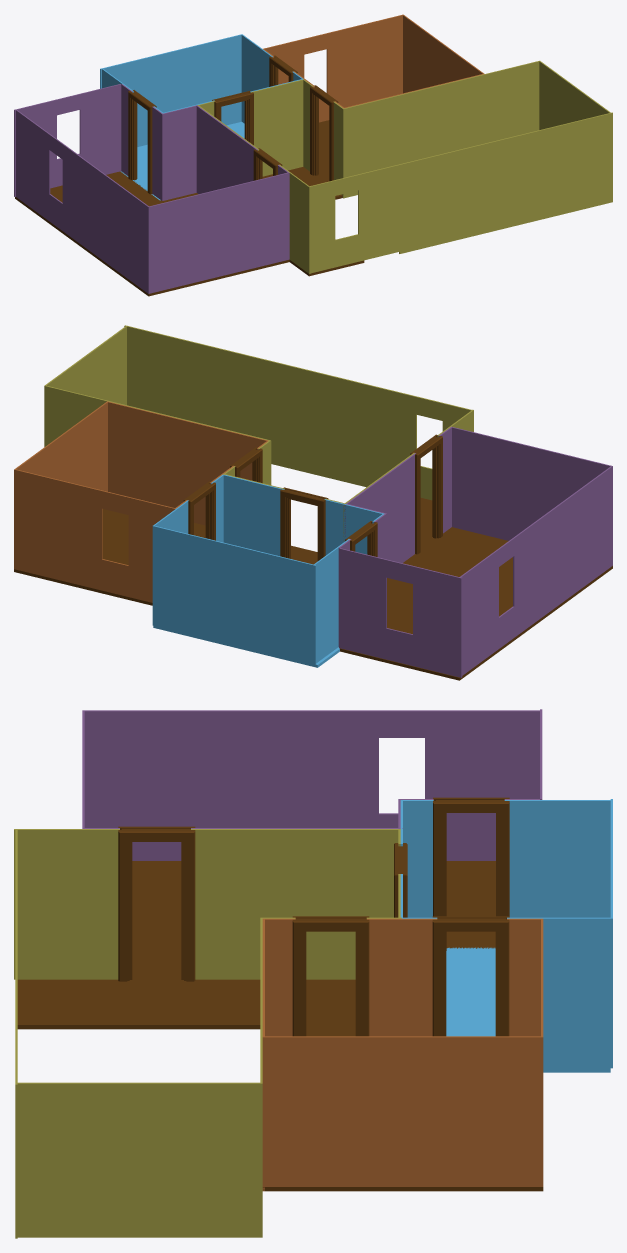
Rendered from house_upstairs_03.fbx.
3 renders of one model, top to bottom at view 1: azimuth 30°, elevation 25°; view 2: azimuth 150°, elevation 25°; view 3: azimuth 270°, elevation 25°, orthographic. The views are drawn at different scales.
Parts seen in each view (by area): view 1: polySurface4373; view 2: polySurface4373; view 3: polySurface4373.
Boxes of the visible parts, left/top/right/bottom form: polySurface4373: left=14, top=14, right=612, bottom=296; polySurface4373: left=14, top=325, right=612, bottom=680; polySurface4373: left=14, top=709, right=612, bottom=1238.
Size of the model in its own units: 18.82 by 3.6 by 12.7.
